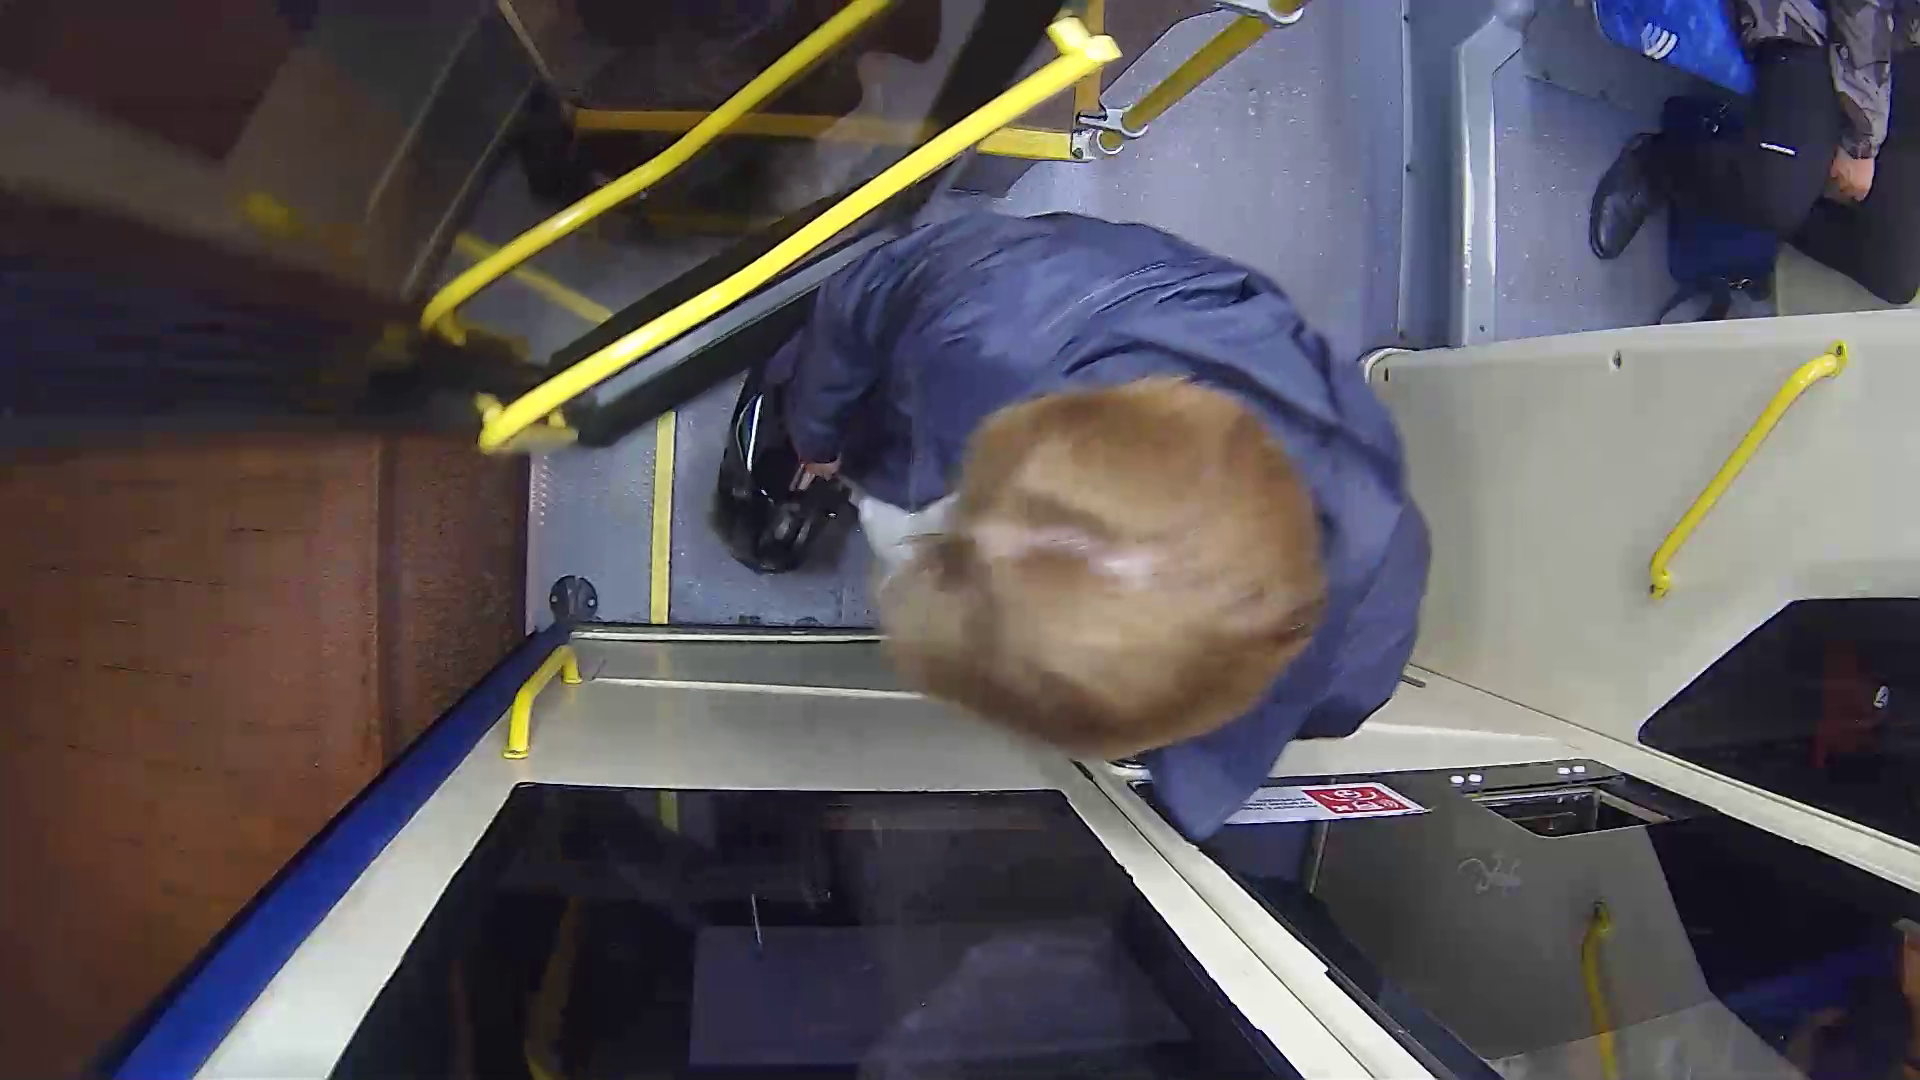person: (782, 169, 1492, 831)
